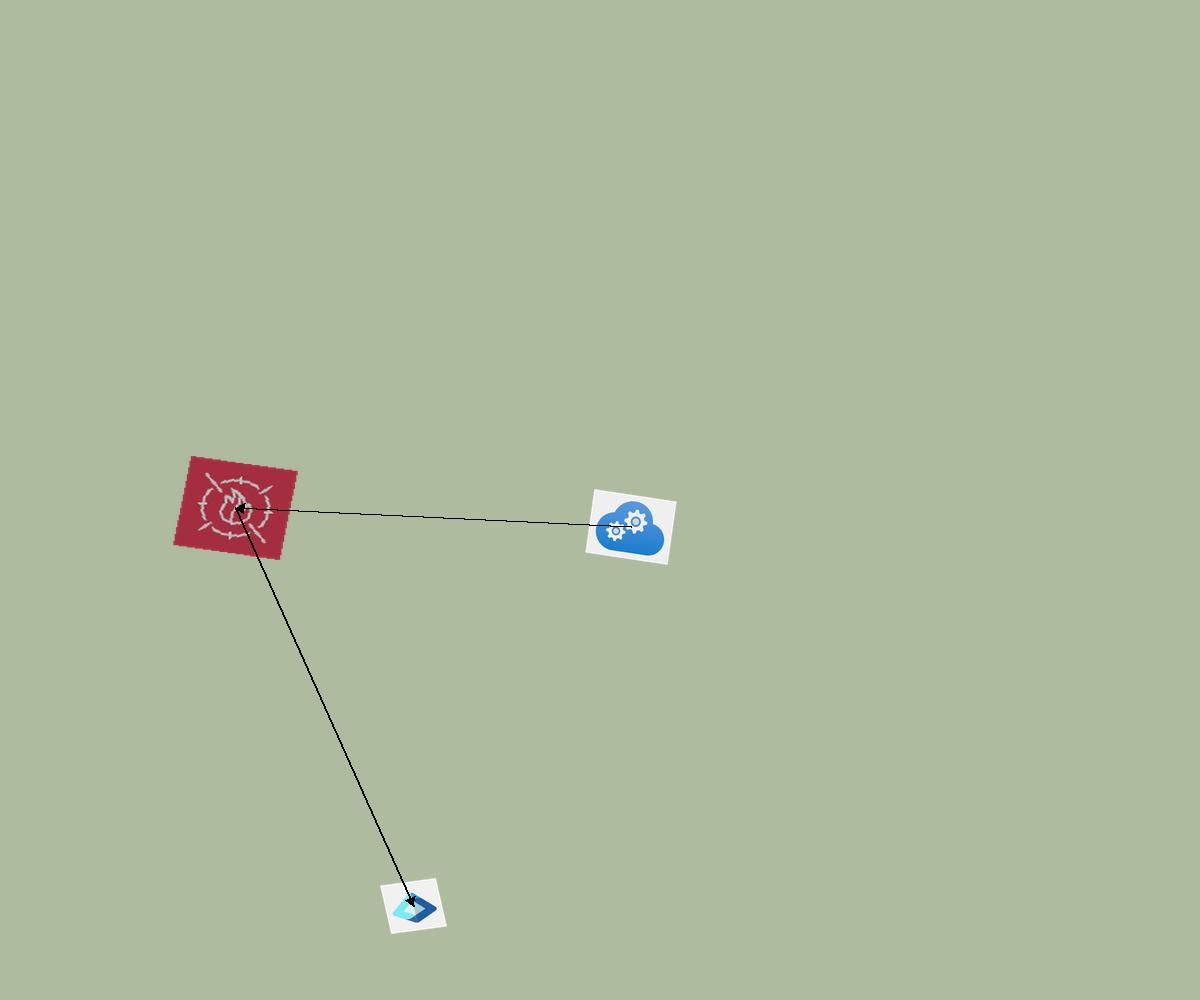AWS-WAF: (172, 455, 299, 561)
Azure_cloud_services: (585, 489, 677, 565)
Azure_microsoft_entra: (380, 878, 447, 934)
